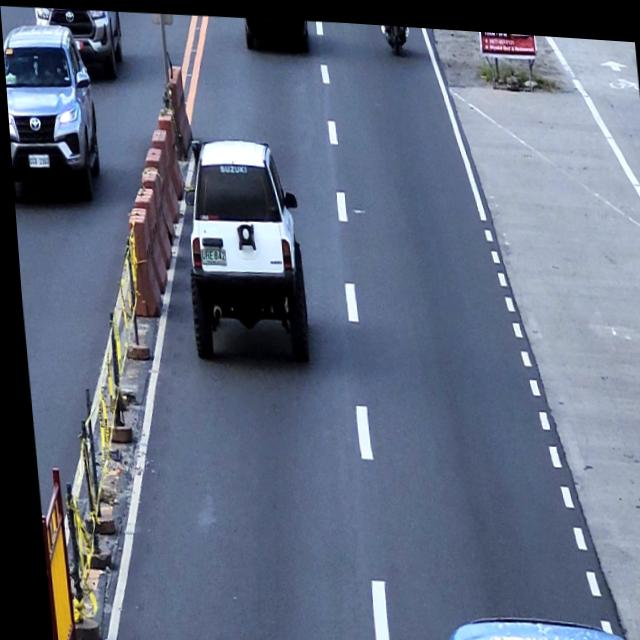Car: (173, 130, 307, 362), (1, 19, 100, 201), (34, 5, 124, 77)
License-Plate: (196, 243, 223, 263), (24, 152, 47, 168)
Motorcycle: (379, 20, 411, 49)
